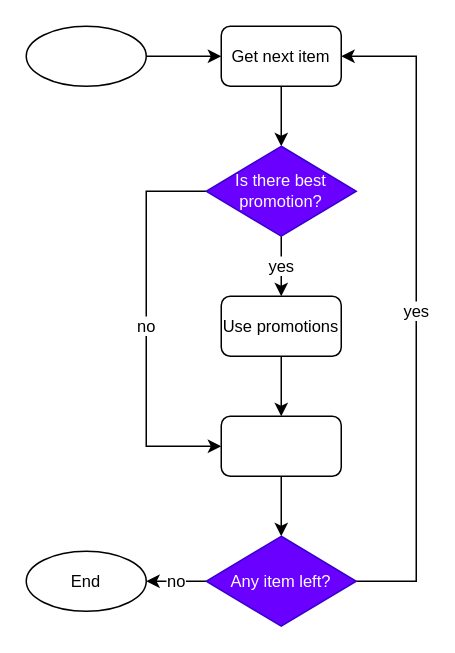
Image size: 455x653. Some labels were removed from this diagram. The shapes that lost their labels are listed below. From the top down, each one's centre as x and y in pixels, then its label:
At [85,55]: "Start".
At [280,445]: "Deduce leftovers".
